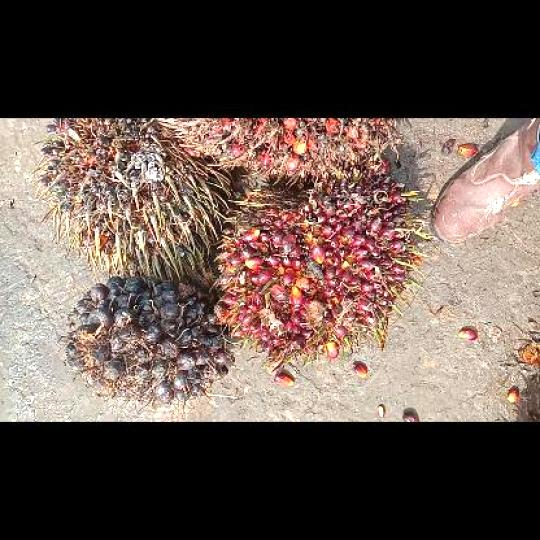masak: (217, 184, 424, 364)
terlalu masak: (157, 118, 401, 186)
